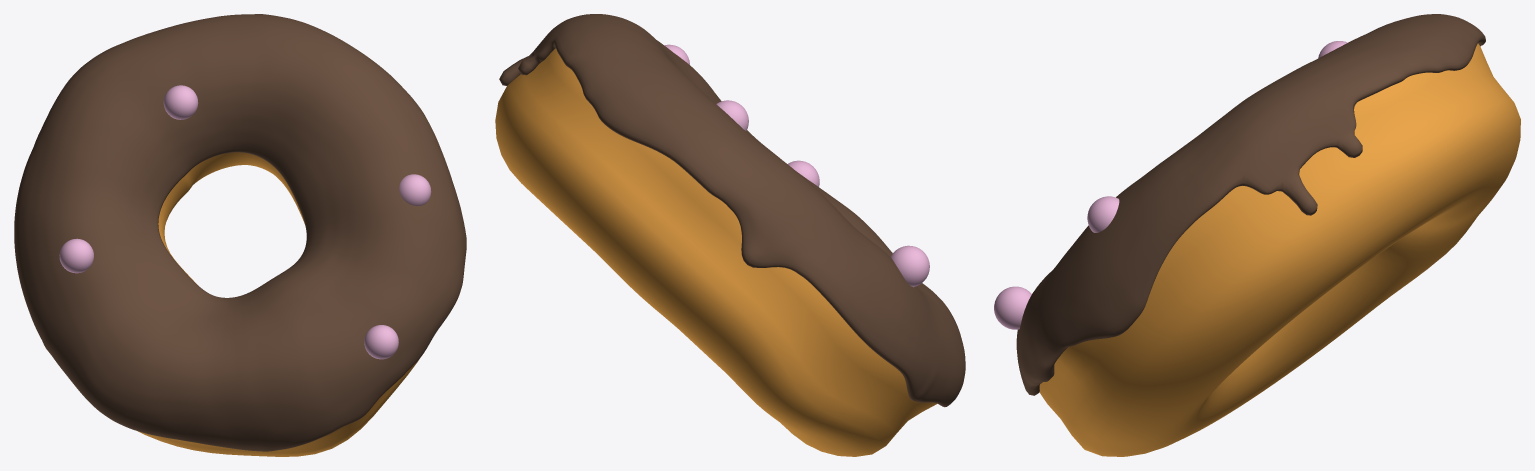
The model's file is Doughnut.fbx.
The picture shows the model from 3 angles, left to right: view 1: azimuth 30°, elevation 25°; view 2: azimuth 150°, elevation 25°; view 3: azimuth 270°, elevation 25°; orthographic projection. The views are drawn at different scales.
Parts seen in each view (by area): view 1: Icing, Doughnut, Sphere.003, Sphere.001, Sphere.002, Sphere.004; view 2: Doughnut, Icing, Sphere.002, Sphere.003; view 3: Doughnut, Icing, Sphere.001, Sphere.004.
Part boxes in pixels (x1,y1,x2,y2): Icing: (14, 14, 466, 451); Doughnut: (138, 152, 419, 456); Sphere.003: (163, 85, 198, 119); Sphere.001: (364, 325, 398, 359); Sphere.002: (59, 238, 93, 273); Sphere.004: (399, 174, 431, 205); Doughnut: (495, 48, 937, 456); Icing: (499, 14, 965, 407); Sphere.002: (890, 245, 929, 287); Sphere.003: (716, 100, 748, 131); Doughnut: (1039, 43, 1520, 456); Icing: (1016, 14, 1485, 395); Sphere.001: (994, 286, 1031, 329); Sphere.004: (1087, 196, 1119, 232).
Bounding box in the file's own units: 11.79 × 10.6 × 11.71.
